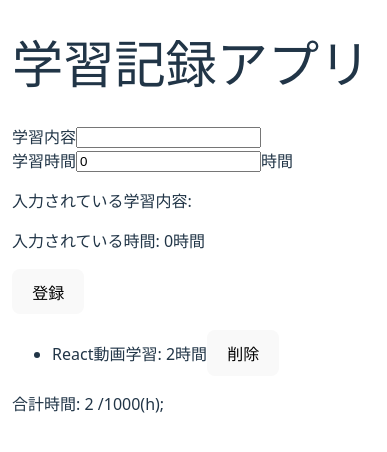
it: App › 学習記録の登録を押すと記録が追加されている
In the field labelled "学習内容": (168, 137) 76,127 -> 261,148, type "TypeScript"
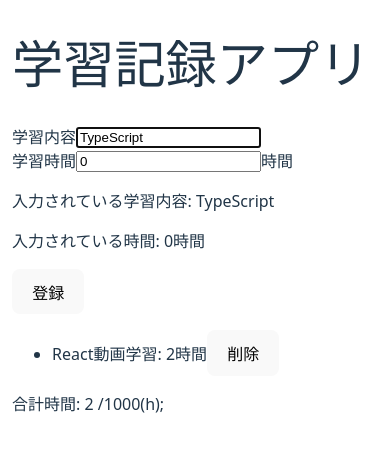
Replace the text in the number field labelled "学習時間" with "3": (168, 161) 76,151 -> 261,172
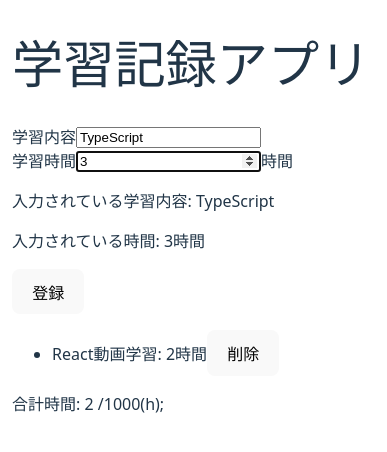
Click the button "登録": (48, 292) 12,269 -> 84,314
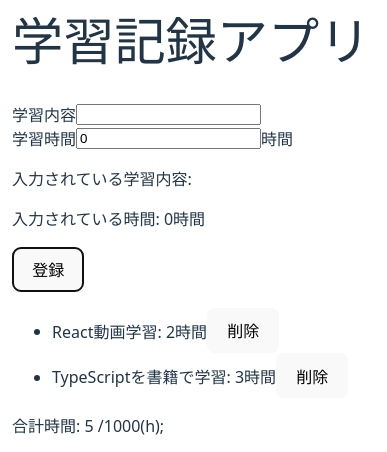
Now the number of list items is 2, box 52,308 -> 279,353; 52,353 -> 370,398
